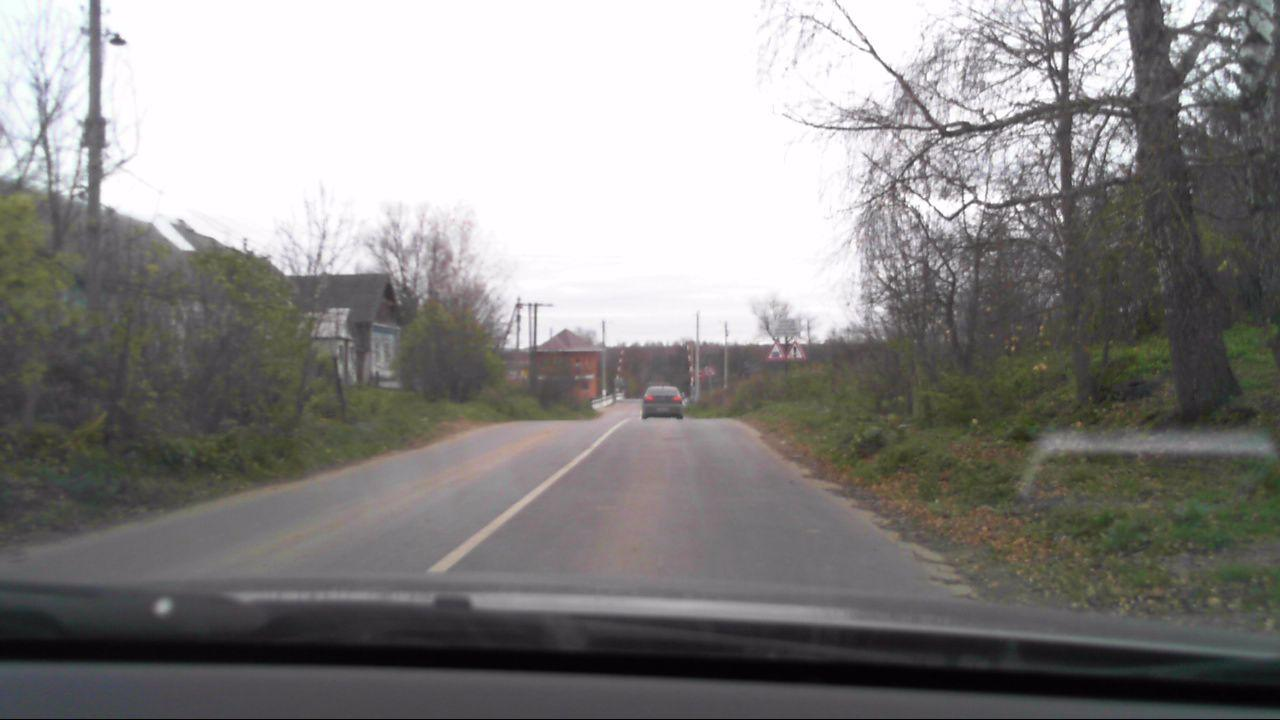1_33: (786, 341, 806, 360)
